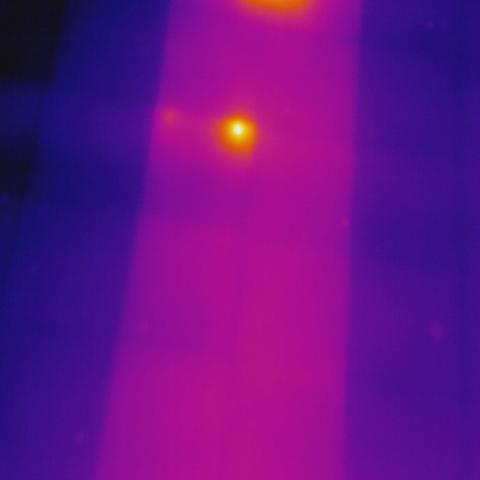fault: (215, 110, 261, 162)
